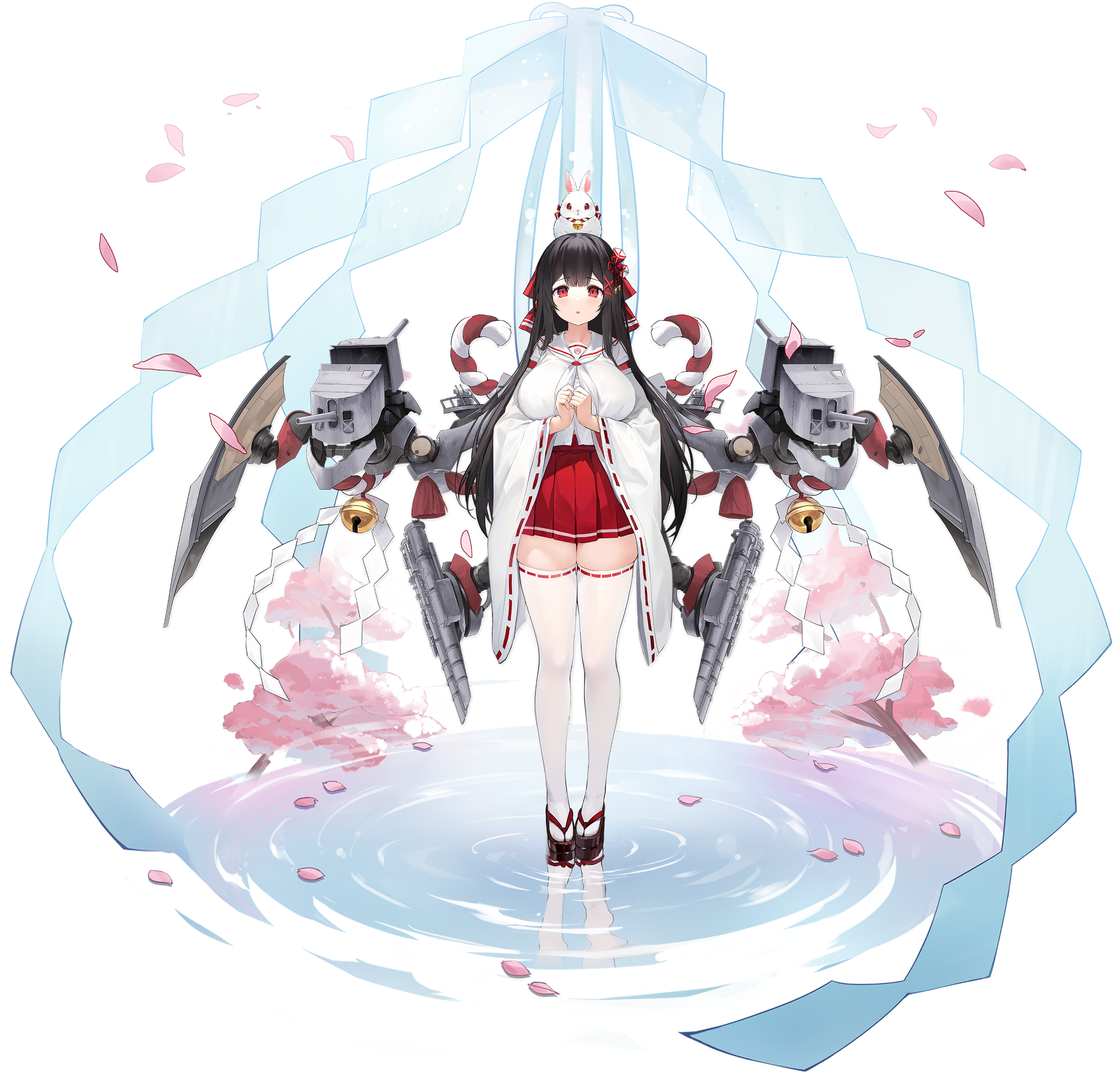person: (436, 200, 710, 985)
